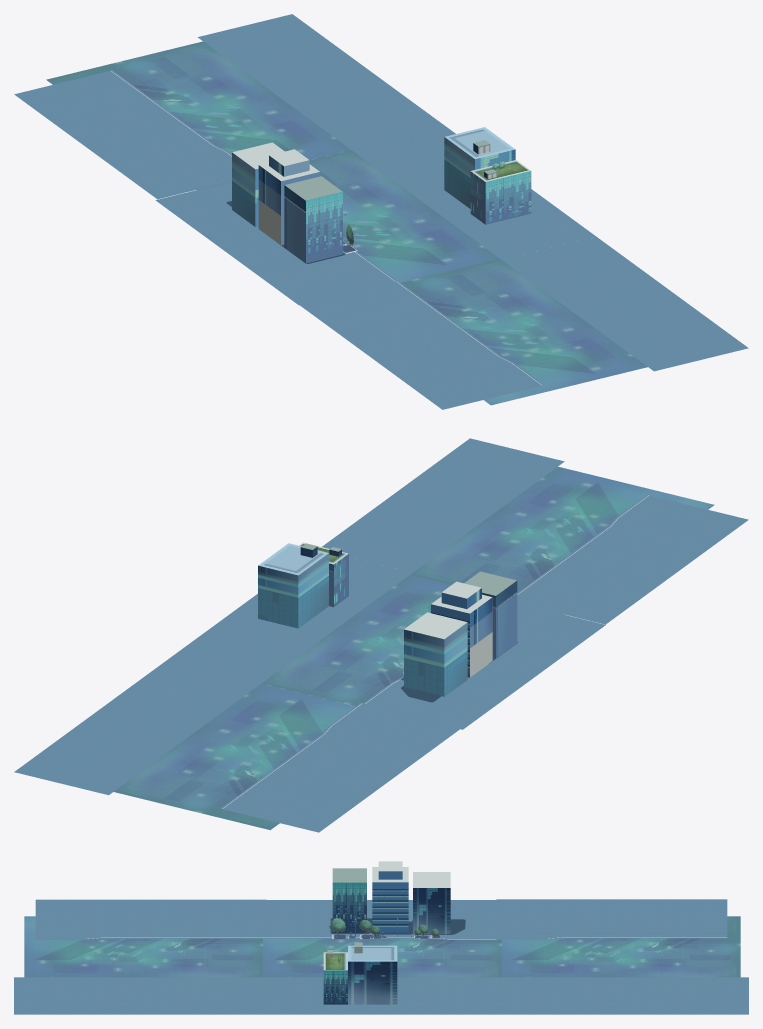
Rendered from Stage_1003_Obj_01.fbx.
The picture shows the model from 3 angles, top to bottom: view 1: azimuth 30°, elevation 25°; view 2: azimuth 150°, elevation 25°; view 3: azimuth 270°, elevation 25°; orthographic projection. The views are drawn at different scales.
Parts seen in each view (by area): view 1: Plane.002, Cube.008, Cube.004, Cube.012, Cube.011, Plane.001, Plane, Cube.025, Cube.010, Cube.009, Cube.034, Cube.024 (+2 smaller); view 2: Plane.001, Cube.008, Cube.004, Cube.011, Cube.012, Plane.002, Plane, Cube.025, Cube.010, Cube.001, Cube.003, Cube.024 (+2 smaller); view 3: Plane.001, Plane.002, Cube.012, Cube.011, Cube.004, Cube.008, Cube.025, Plane, Cube.010, Cube.001, Cube.024, Cube.003 (+2 smaller).
Part boxes in pixels (x1=…): Plane.002: x1=401, y1=258, x2=647, y2=405; Cube.008: x1=197, y1=14, x2=444, y2=148; Cube.004: x1=502, y1=237, x2=748, y2=371; Cube.012: x1=299, y1=281, x2=543, y2=409; Cube.011: x1=14, y1=70, x2=231, y2=199; Plane.001: x1=46, y1=41, x2=350, y2=159; Plane: x1=197, y1=150, x2=499, y2=282; Cube.025: x1=350, y1=125, x2=596, y2=259; Cube.010: x1=155, y1=181, x2=396, y2=304; Cube.009: x1=284, y1=176, x2=342, y2=263; Cube.034: x1=470, y1=160, x2=531, y2=224; Cube.024: x1=258, y1=149, x2=320, y2=245; Plane.001: x1=114, y1=683, x2=355, y2=830; Cube.008: x1=14, y1=661, x2=260, y2=795; Cube.004: x1=322, y1=438, x2=564, y2=572; Cube.011: x1=220, y1=703, x2=461, y2=832; Cube.012: x1=517, y1=495, x2=748, y2=624; Plane.002: x1=410, y1=466, x2=714, y2=592; Plane: x1=262, y1=575, x2=563, y2=706; Cube.025: x1=166, y1=557, x2=412, y2=683; Cube.010: x1=363, y1=603, x2=605, y2=729; Cube.001: x1=258, y1=543, x2=328, y2=628; Cube.003: x1=404, y1=612, x2=467, y2=696; Cube.024: x1=431, y1=581, x2=492, y2=677; Plane.001: x1=502, y1=916, x2=740, y2=977; Plane.002: x1=24, y1=916, x2=262, y2=977; Cube.012: x1=35, y1=899, x2=266, y2=939; Cube.011: x1=496, y1=899, x2=727, y2=939; Cube.004: x1=14, y1=977, x2=258, y2=1014; Cube.008: x1=504, y1=977, x2=748, y2=1014; Cube.025: x1=259, y1=977, x2=503, y2=1014; Plane: x1=263, y1=938, x2=501, y2=977; Cube.010: x1=266, y1=900, x2=497, y2=939; Cube.001: x1=348, y1=945, x2=397, y2=1004; Cube.024: x1=372, y1=861, x2=408, y2=933; Cube.003: x1=413, y1=872, x2=450, y2=934.
Size of the model in its own units: 618 by 187 by 1666.
